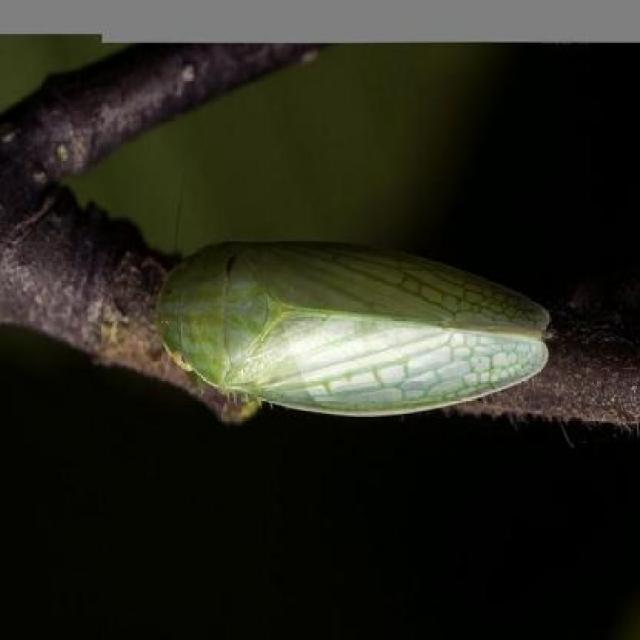green-leafhopper: (152, 237, 554, 428)
